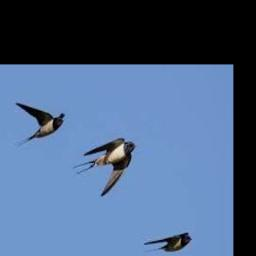Swallow: (72, 137, 136, 196), (15, 103, 64, 147), (143, 232, 191, 253)
